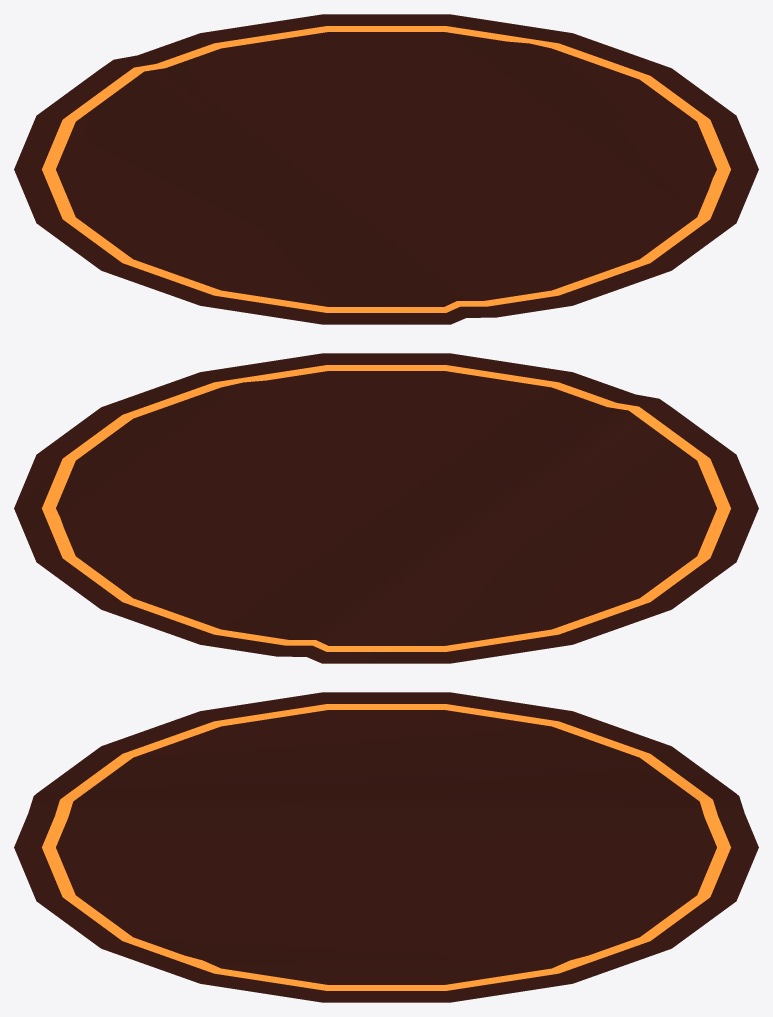
Rendered from prop-rug-round.glb.
The picture shows the model from 3 angles, top to bottom: view 1: azimuth 30°, elevation 25°; view 2: azimuth 150°, elevation 25°; view 3: azimuth 270°, elevation 25°; orthographic projection.
Parts seen in each view (by area): view 1: Carpet_Round; view 2: Carpet_Round; view 3: Carpet_Round.
Part boxes in pixels (x1=…): Carpet_Round: x1=14, y1=14, x2=758, y2=324; Carpet_Round: x1=14, y1=353, x2=758, y2=663; Carpet_Round: x1=14, y1=692, x2=758, y2=1002.
Bounding box in the file's own units: 249 × 1.57 × 253.
